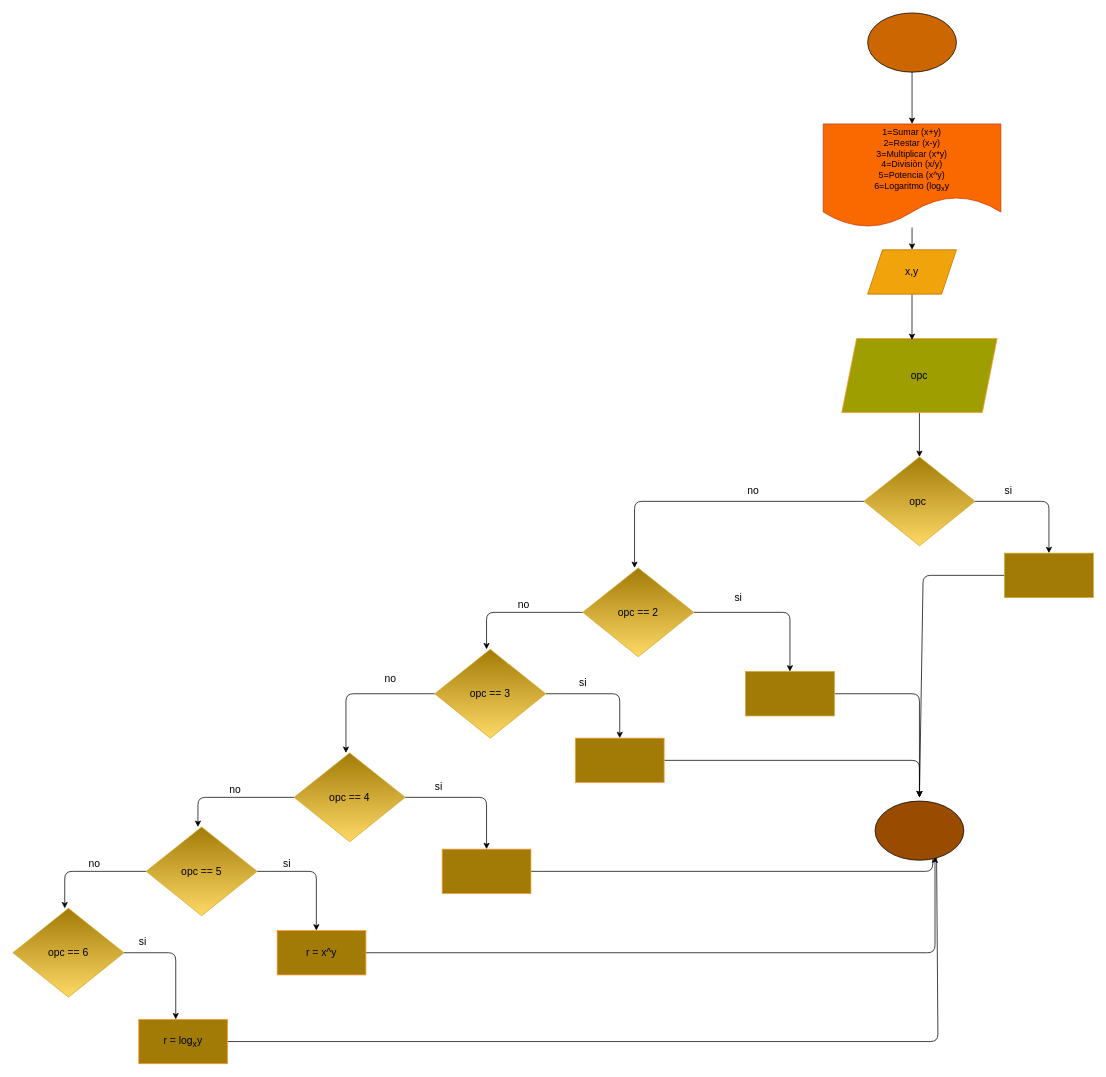
The diagram is 1106 pixels wide and 1077 high, and some of its shapes have lost their labels. The centre of each missing label's shape, as x and y in pixels:
FIN: the point at 919,830
INICIO: the point at 911,42
r = x*y: the point at 619,760
r = x+y: the point at 1048,575
r = x/y: the point at 486,871
r =x-y: the point at 789,693
